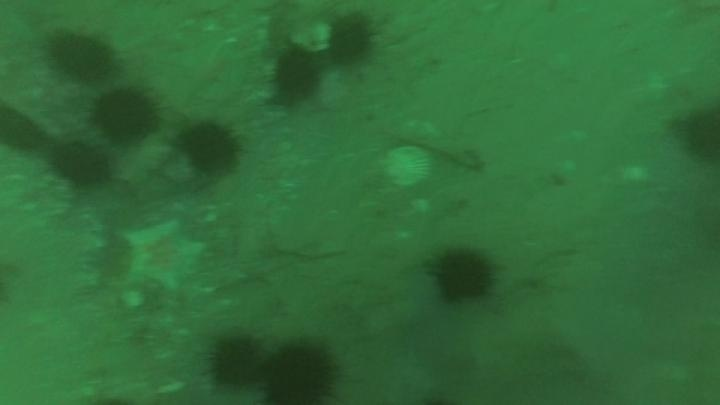echinus: (261, 341, 339, 405), (429, 246, 497, 306), (91, 86, 160, 144), (46, 29, 117, 85), (177, 119, 243, 176), (49, 139, 112, 189), (207, 335, 265, 389), (270, 47, 322, 103), (326, 14, 376, 66), (680, 103, 720, 165), (1, 102, 45, 153)
scallop: (380, 144, 435, 190)
starfish: (118, 217, 207, 295)
